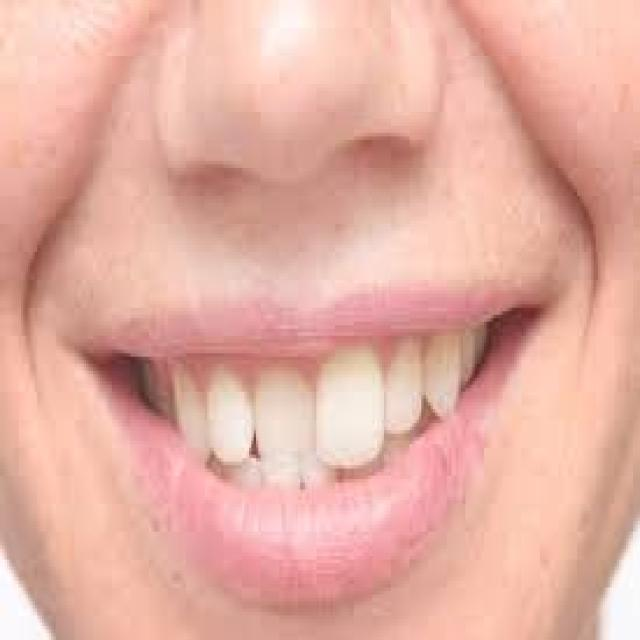tooth: (310, 353, 384, 469), (251, 367, 312, 469), (207, 371, 251, 468), (170, 364, 212, 454), (384, 346, 426, 427), (422, 336, 458, 409)
